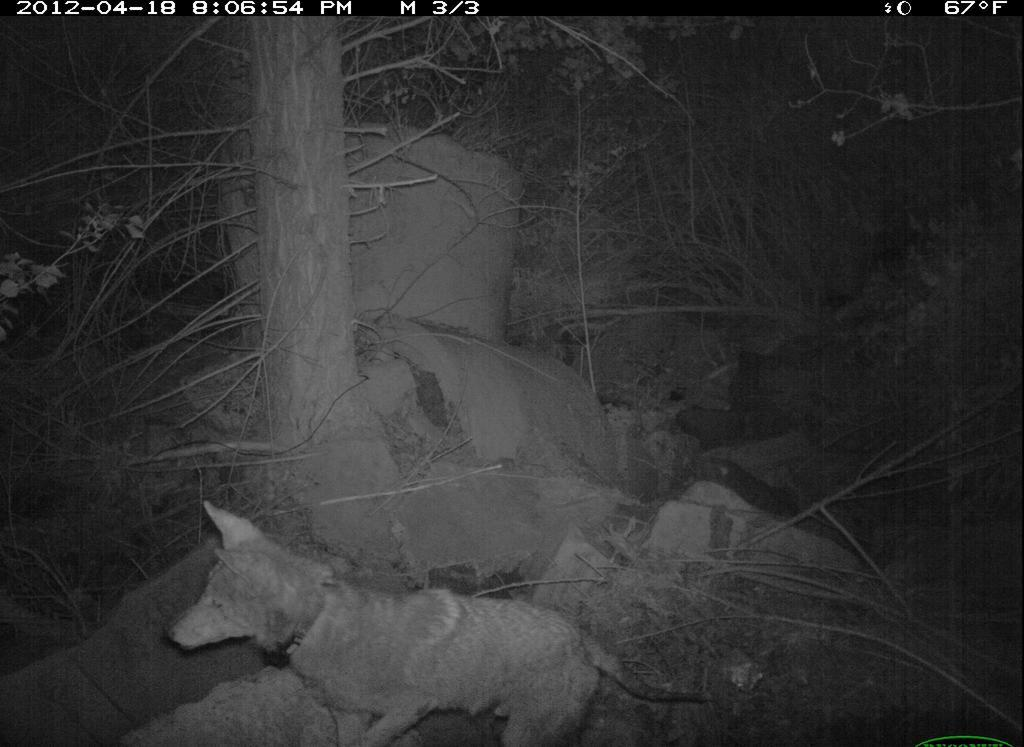coyote: (150, 488, 734, 747)
